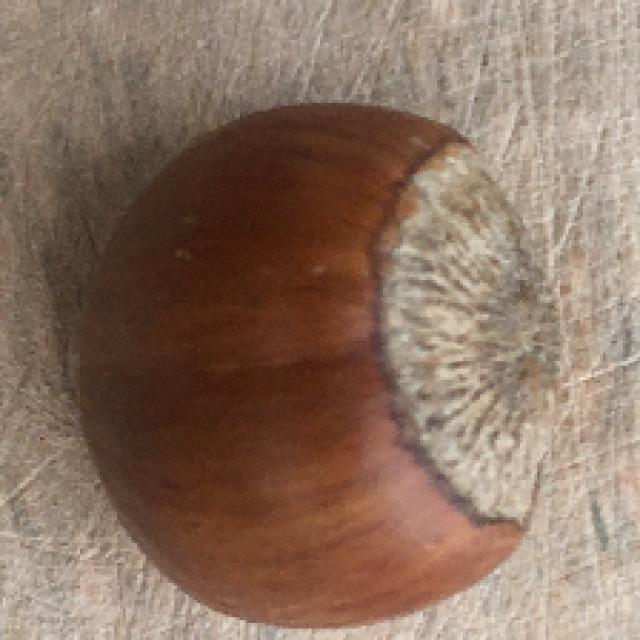DamagedHazelnut: (76, 103, 561, 631)
